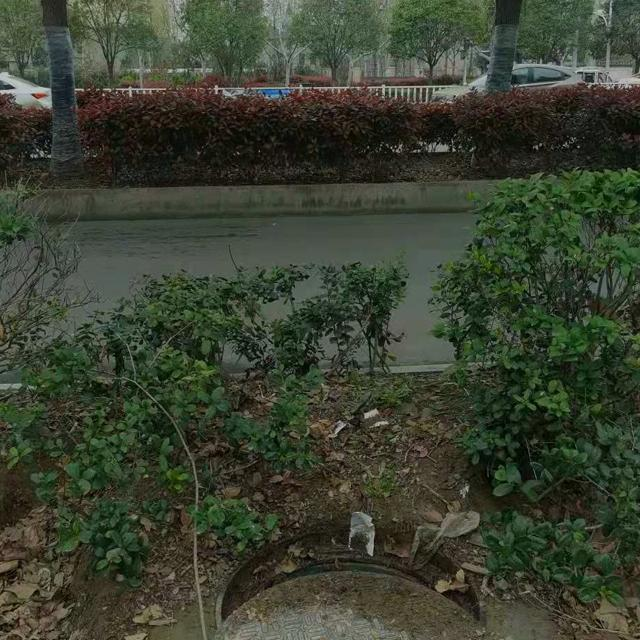uncovered: (195, 525, 510, 640)
